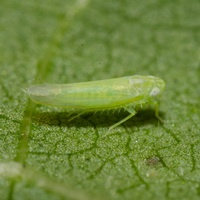insect: (27, 75, 164, 131)
